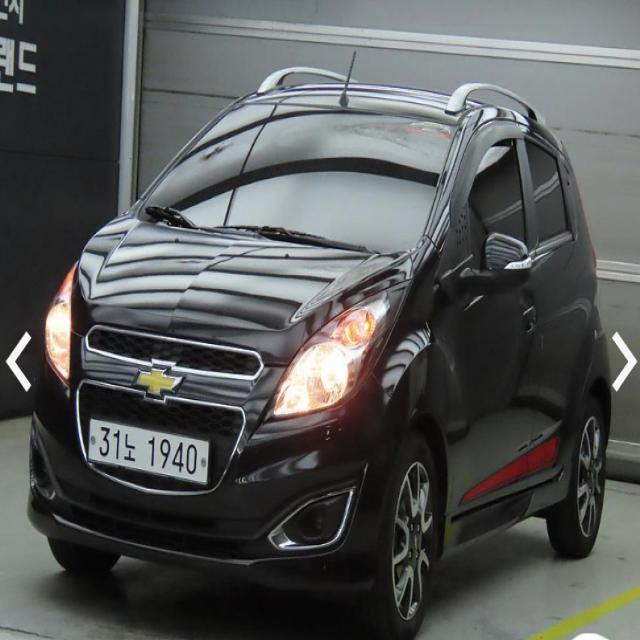car: (31, 61, 613, 636)
illegal_plate: (85, 416, 213, 492)
